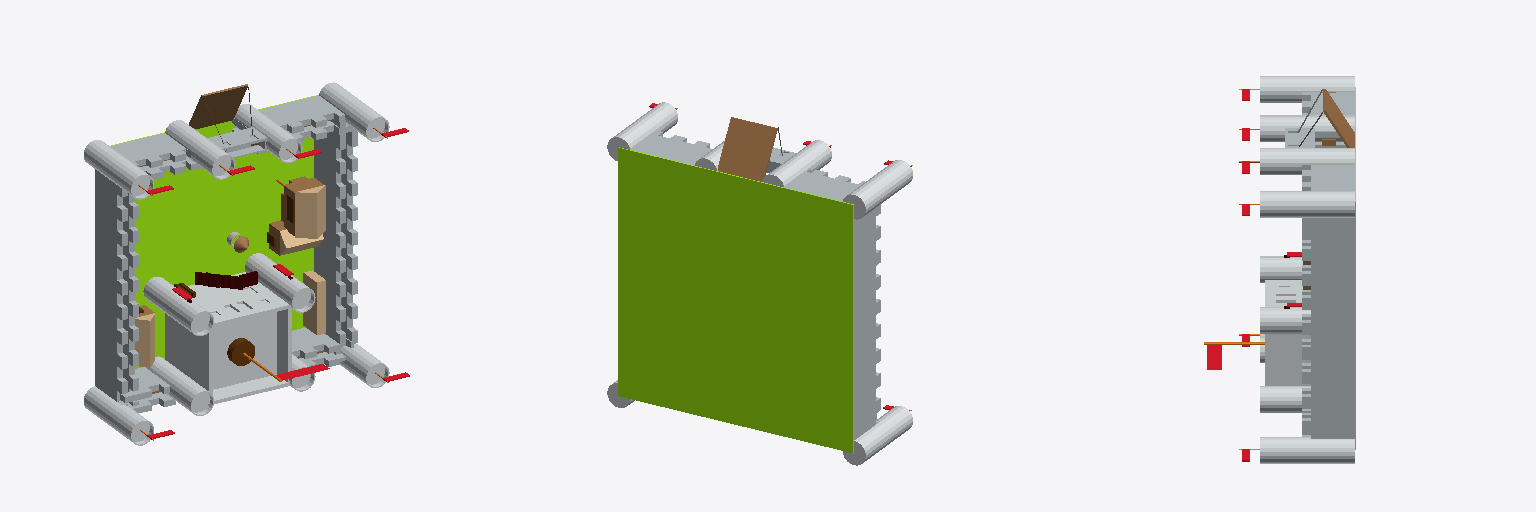
File: tinker.obj
The picture shows the model from 3 angles: view 1: azimuth 30°, elevation 25°; view 2: azimuth 150°, elevation 25°; view 3: azimuth 270°, elevation 25°; orthographic projection.
Parts seen in each view (by area): view 1: obj_0; view 2: obj_0; view 3: obj_0.
Part boxes in pixels (x1,y1,x2,y2): obj_0: (84, 82, 409, 445); obj_0: (607, 102, 912, 465); obj_0: (1204, 76, 1355, 463).
Size of the model in its own units: 230 by 247 by 112.